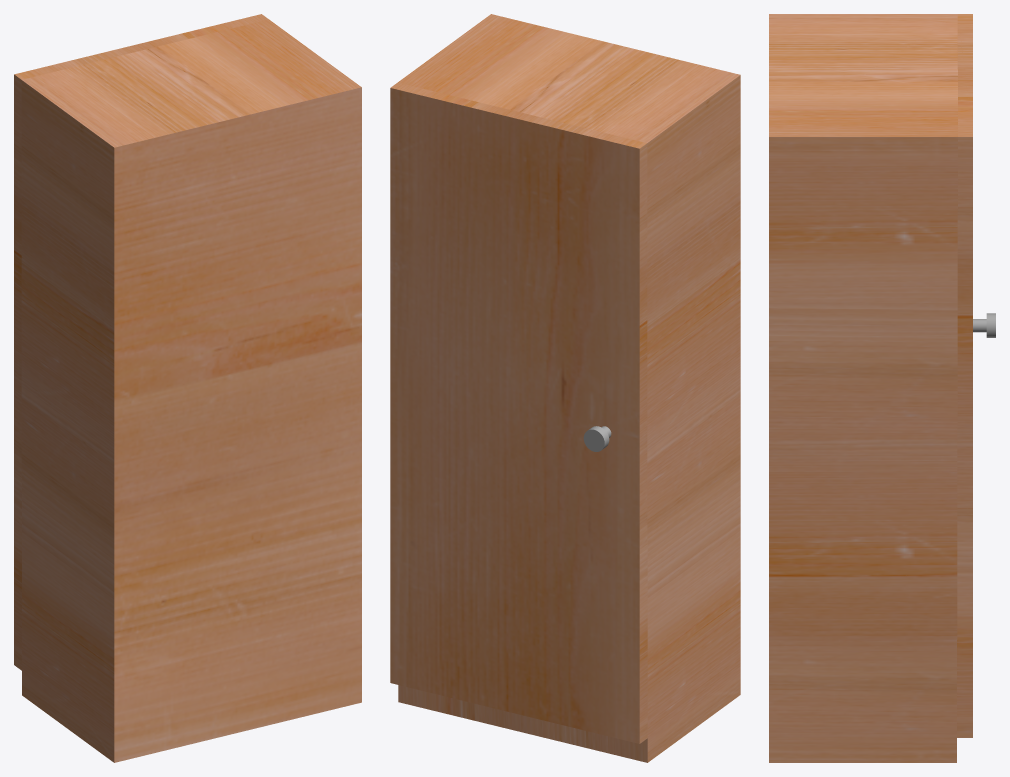
File: Elec_cupboard.fbx
The picture shows the model from 3 angles, left to right: view 1: azimuth 30°, elevation 25°; view 2: azimuth 150°, elevation 25°; view 3: azimuth 270°, elevation 25°; orthographic projection.
Parts seen in each view (by area): view 1: cupboard, cupboard door; view 2: cupboard door, cupboard; view 3: cupboard, cupboard door, Cylinder.
Boxes of the visible parts, <box> form: cupboard: <box>21,19,361,762</box>; cupboard door: <box>14,14,268,670</box>; cupboard door: <box>390,82,647,743</box>; cupboard: <box>398,14,740,762</box>; cupboard: <box>769,14,957,762</box>; cupboard door: <box>957,14,972,737</box>; Cylinder: <box>973,313,995,337</box>.
Bounding box in the file's own units: 75.71 × 180 × 59.07.
Materials: 2 (1 with a texture image).
